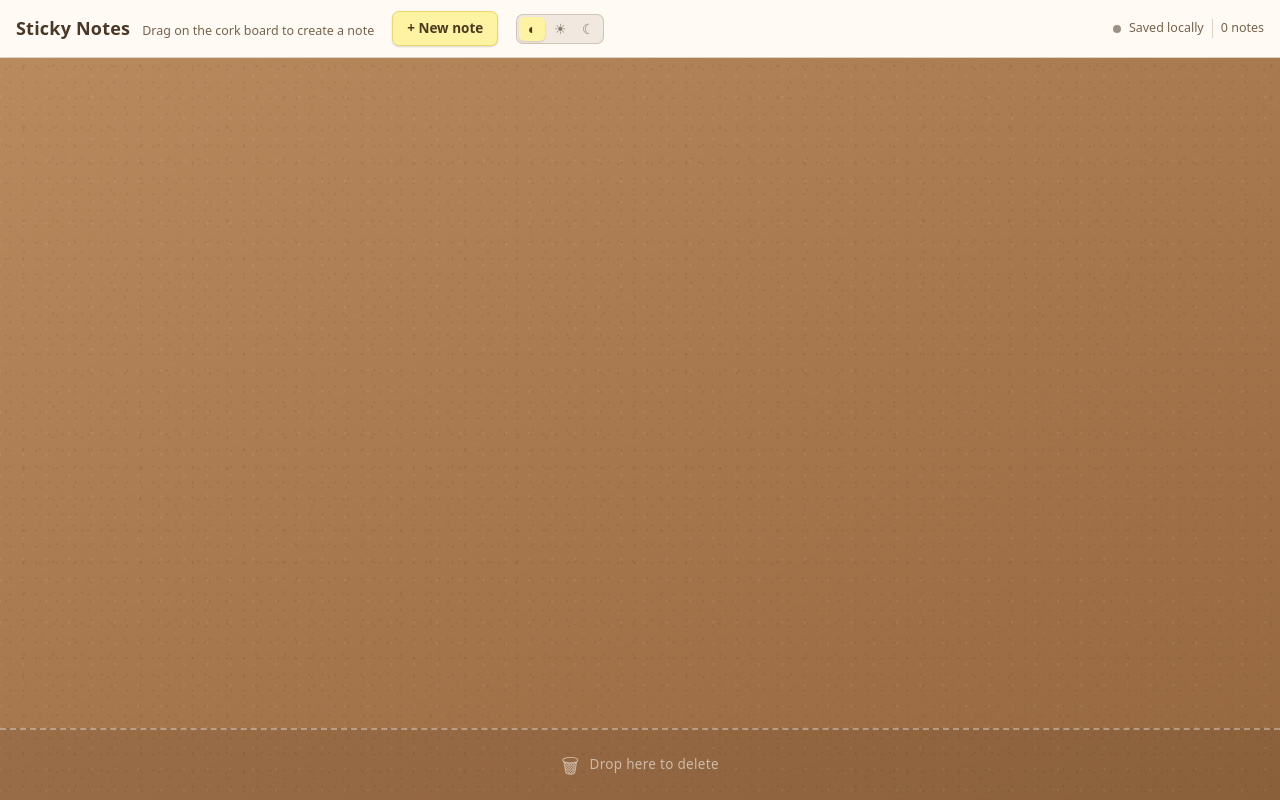
editing after a cancelled edit › still commits the next edit once an Escape has been cancelled
Later steps or results of the test are not shown.
Click the button "+ New note" at {"x": 445, "y": 28}, box [392, 11, 498, 46]
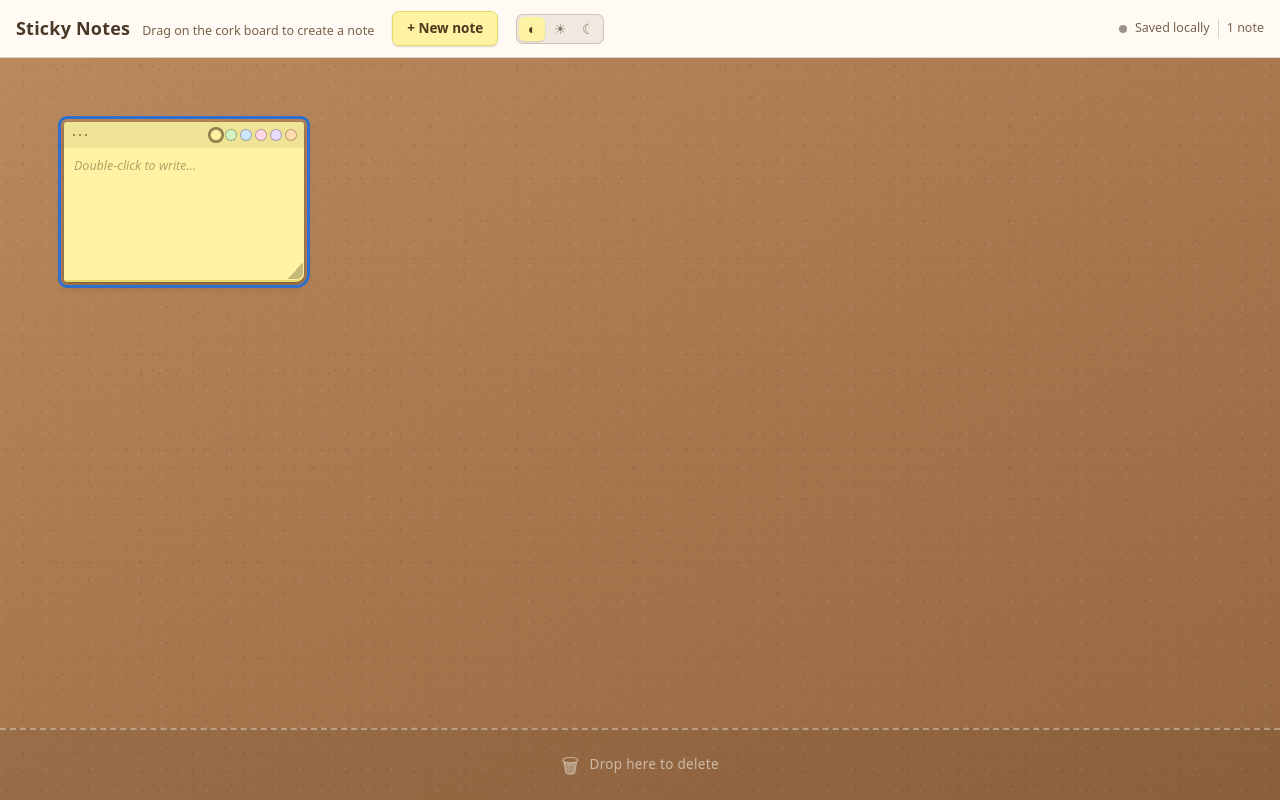
Double-click the element with class "note__body" at {"x": 135, "y": 166}, box [74, 157, 196, 174]
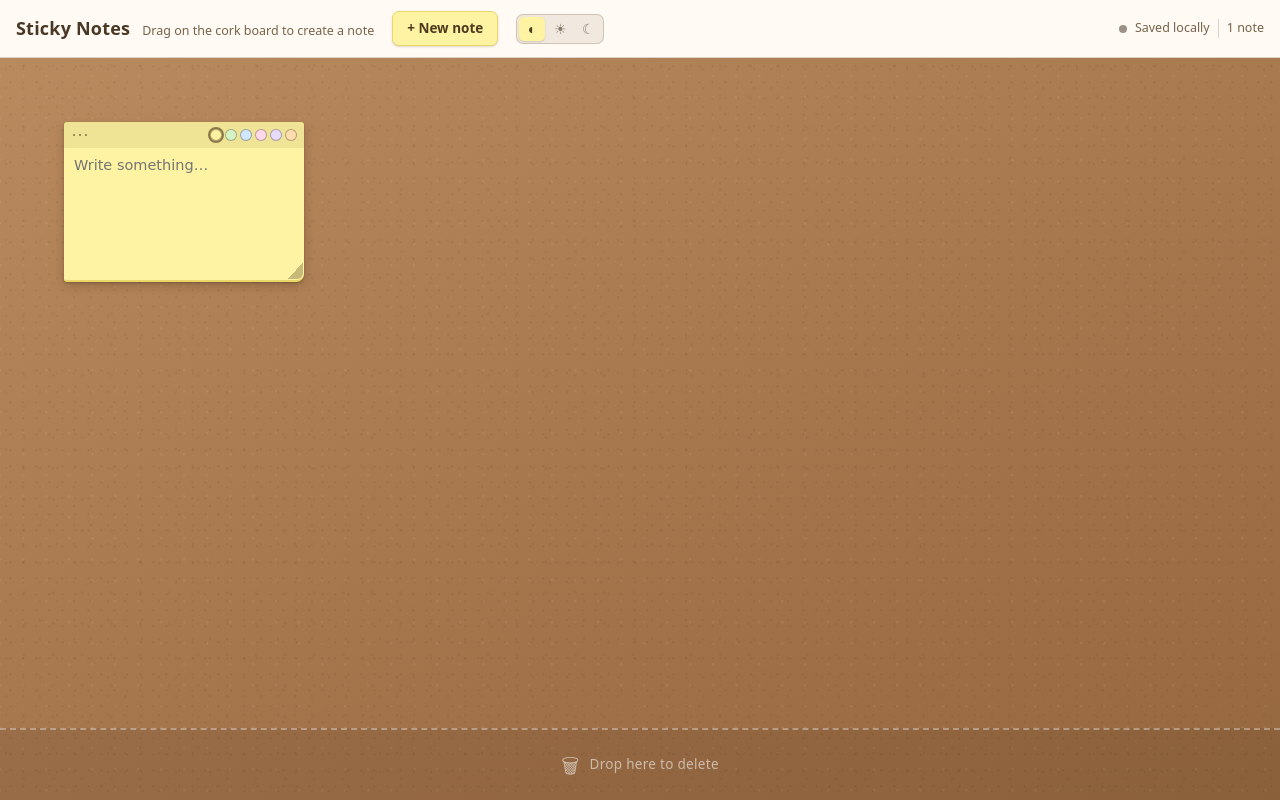
Type "borrador" into the text box with class "note__editor" at {"x": 184, "y": 214}, box [64, 148, 304, 280]
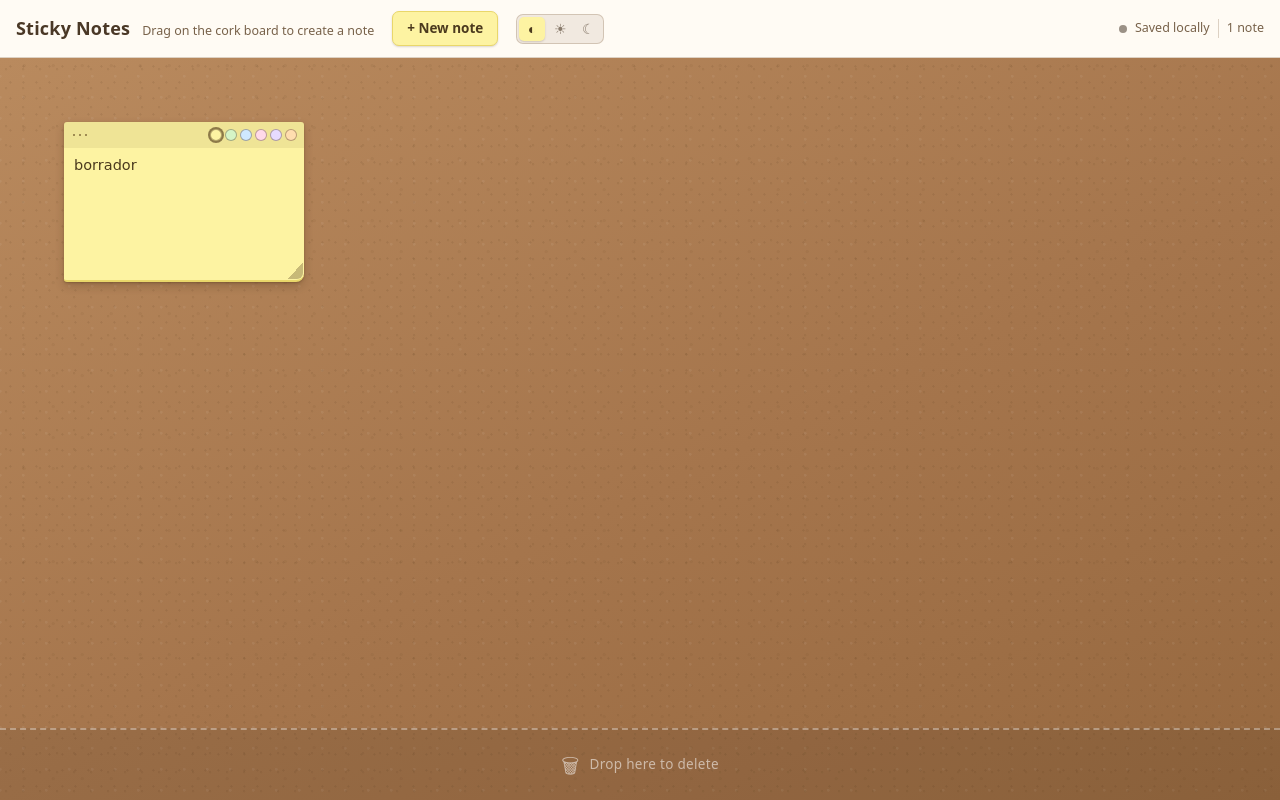
Press Escape in the text box with class "note__editor", box [64, 148, 304, 280]
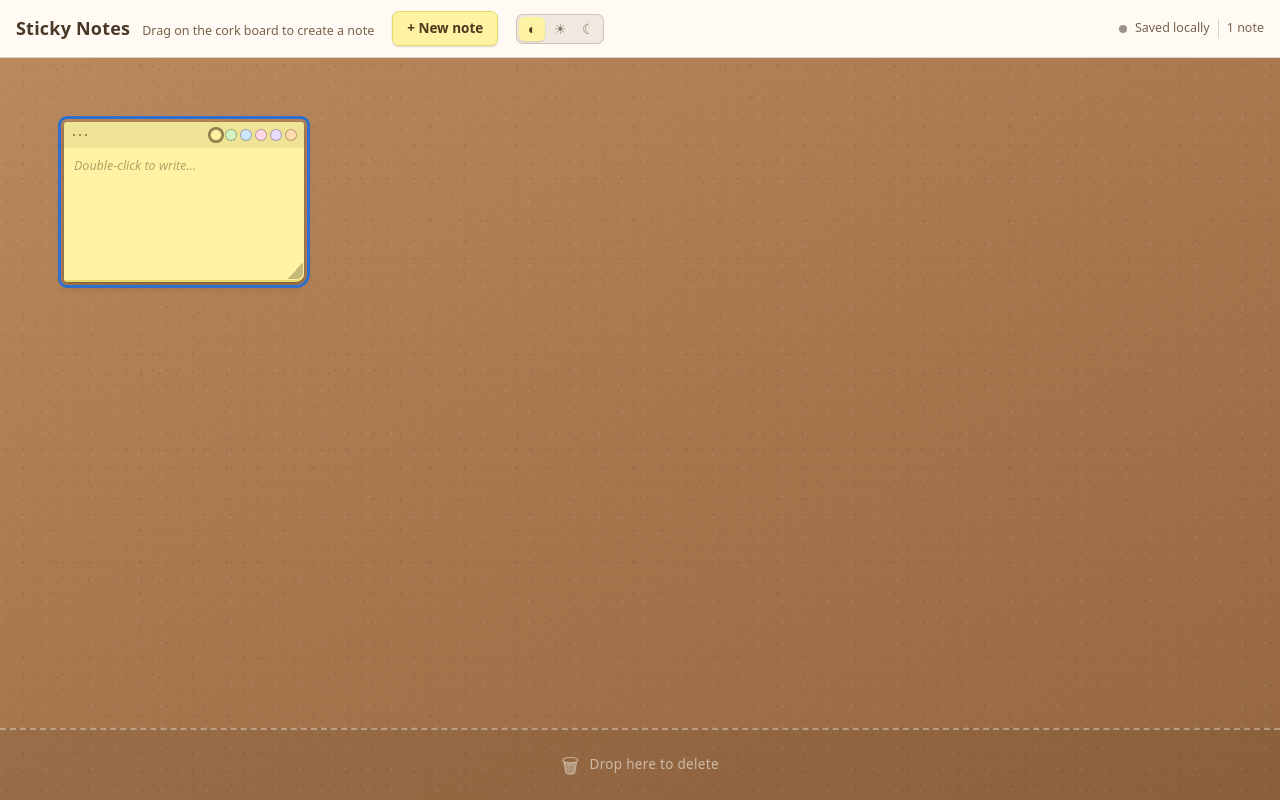
Now the text box with class "note__editor" is gone
